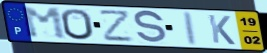I: (184, 11, 199, 47)
K: (206, 13, 237, 46)
M: (20, 7, 69, 40)
O: (59, 8, 96, 41)
S: (133, 9, 169, 45)
Z: (98, 10, 136, 43)
